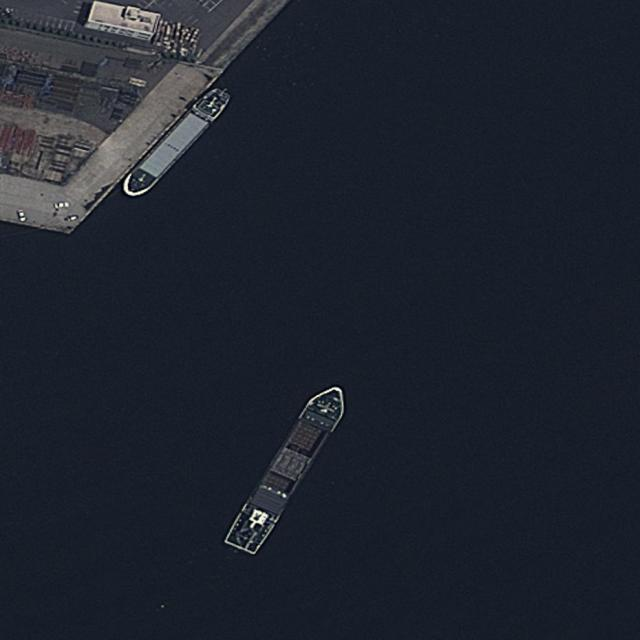Cargo: (220, 376, 356, 561)
Container Ship: (116, 79, 238, 204)
